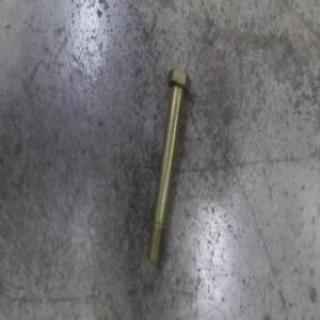Bolttrack_idkeyframe: (146, 64, 191, 266)
